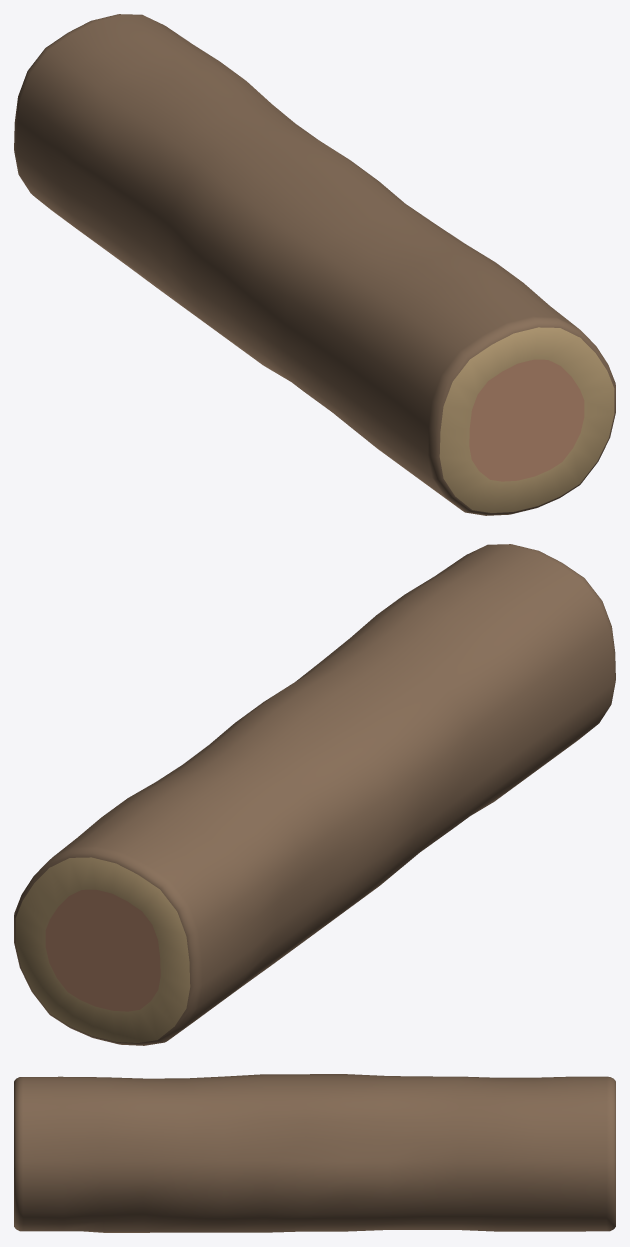
File: log-2.fbx
3 renders of one model, top to bottom at view 1: azimuth 30°, elevation 25°; view 2: azimuth 150°, elevation 25°; view 3: azimuth 270°, elevation 25°, orthographic. The views are drawn at different scales.
Parts seen in each view (by area): view 1: Log; view 2: Log; view 3: Log.
Part boxes in pixels (x1,y1,x2,y2): Log: (14,14,615,515); Log: (14,544,615,1045); Log: (14,1074,615,1232).
Size of the model in its own units: 26.27 by 25.09 by 98.66.
